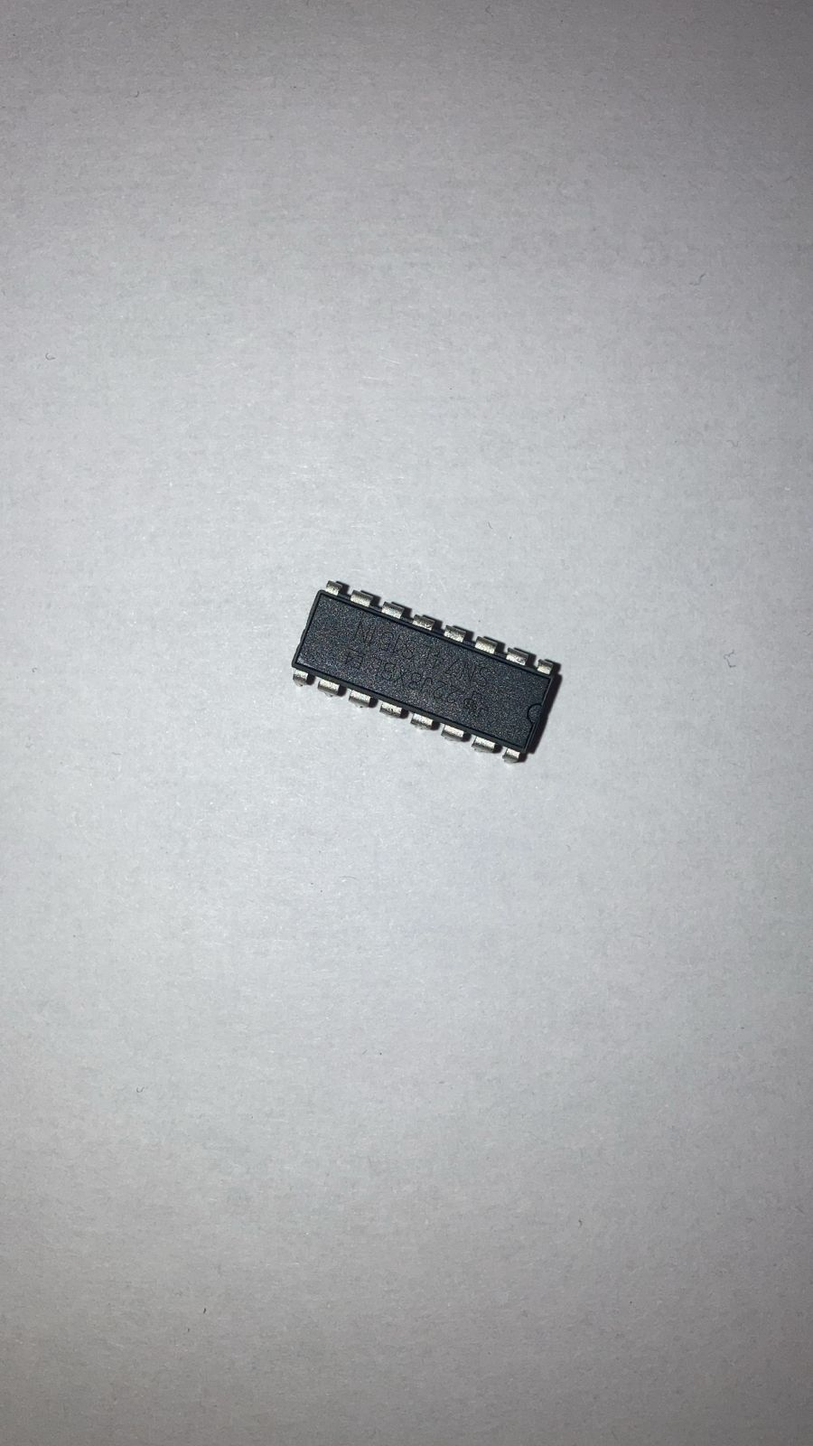IC: (283, 574, 565, 770)
notch: (526, 701, 547, 727)
